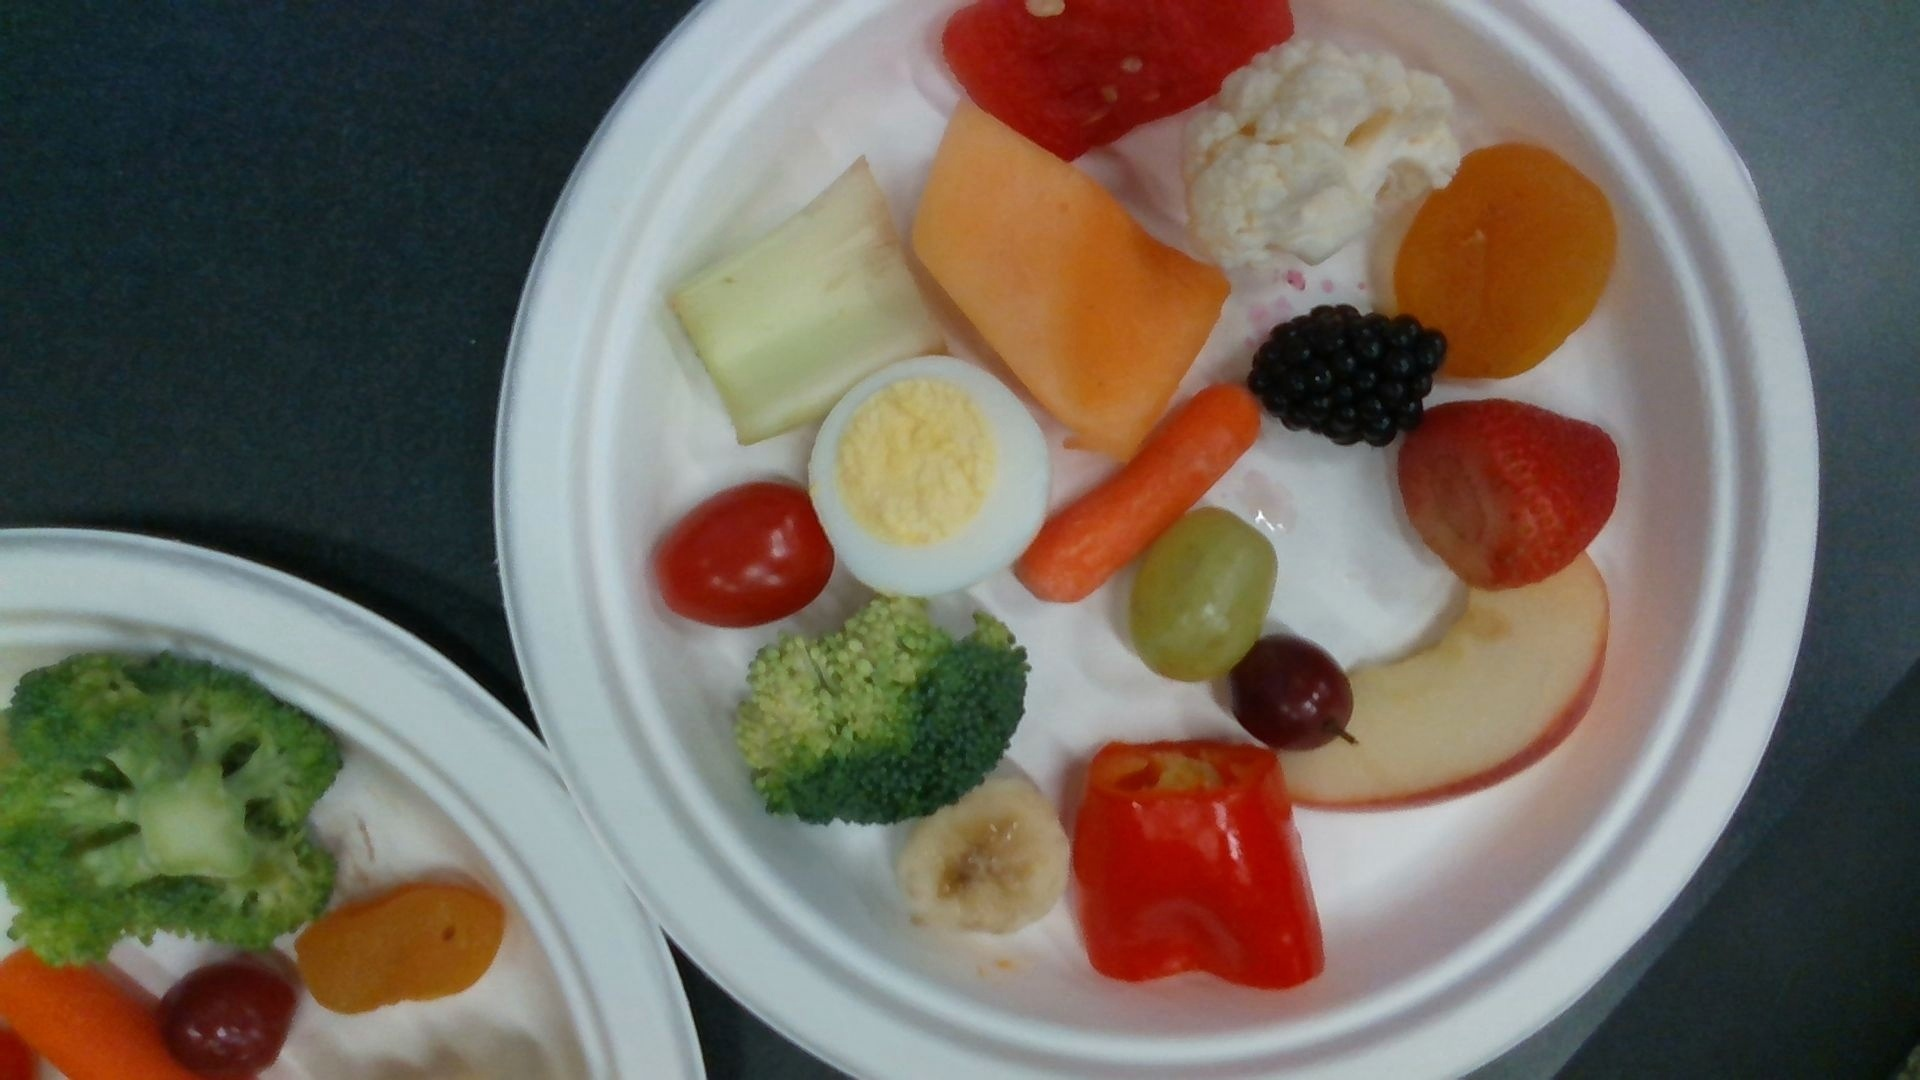apple: (1275, 549, 1609, 808)
apricot: (1399, 145, 1617, 382), (295, 884, 504, 1015)
banana: (899, 773, 1069, 934)
bell_pepper: (1072, 746, 1327, 988)
blackberry: (1254, 310, 1445, 450)
broccoli: (1, 653, 344, 957), (735, 601, 1027, 820)
cantalope: (910, 102, 1230, 450)
carrot: (1021, 380, 1262, 603), (1, 951, 179, 1080)
cauliflower: (1184, 45, 1458, 260)
celery: (669, 156, 947, 448)
cherry_tomato: (657, 485, 833, 626)
egg: (808, 356, 1048, 596)
grape_green: (1137, 510, 1275, 680)
grape_purple: (1232, 640, 1360, 753), (164, 963, 294, 1071)
melon: (940, 1, 1292, 161)
strawberry: (1399, 401, 1619, 585)
